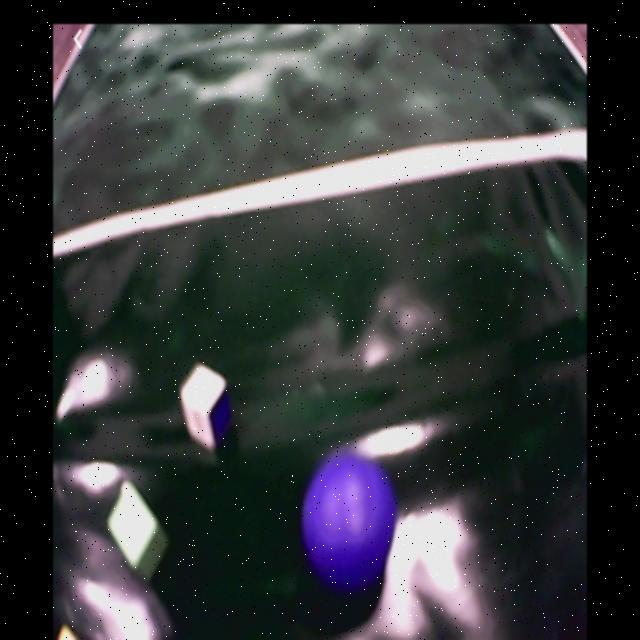ball: (303, 455, 393, 577)
